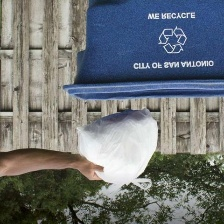plastic_bag: (72, 103, 160, 199)
